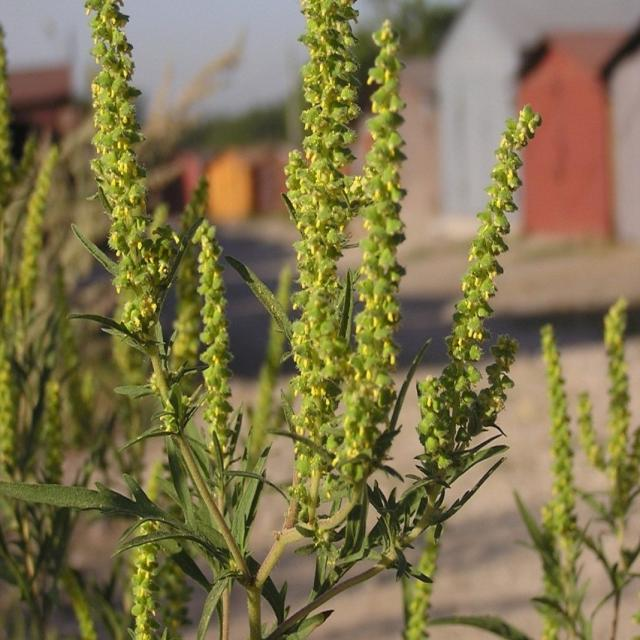ambrosia: (270, 0, 438, 516), (424, 100, 630, 368), (35, 0, 254, 230), (86, 442, 294, 628)
